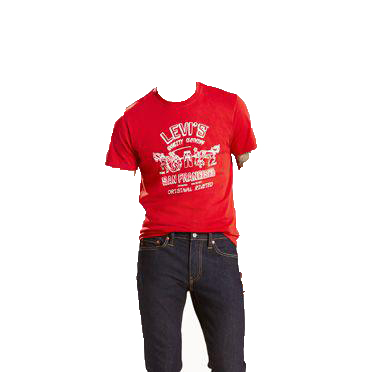teeshirt: (99, 83, 256, 249)
